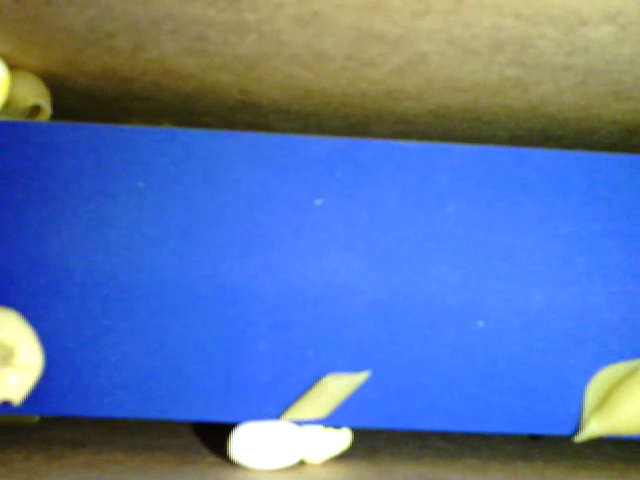penne: (281, 370, 373, 422)
shell: (570, 355, 639, 447), (3, 64, 60, 123)
tortellini: (1, 304, 50, 403)
